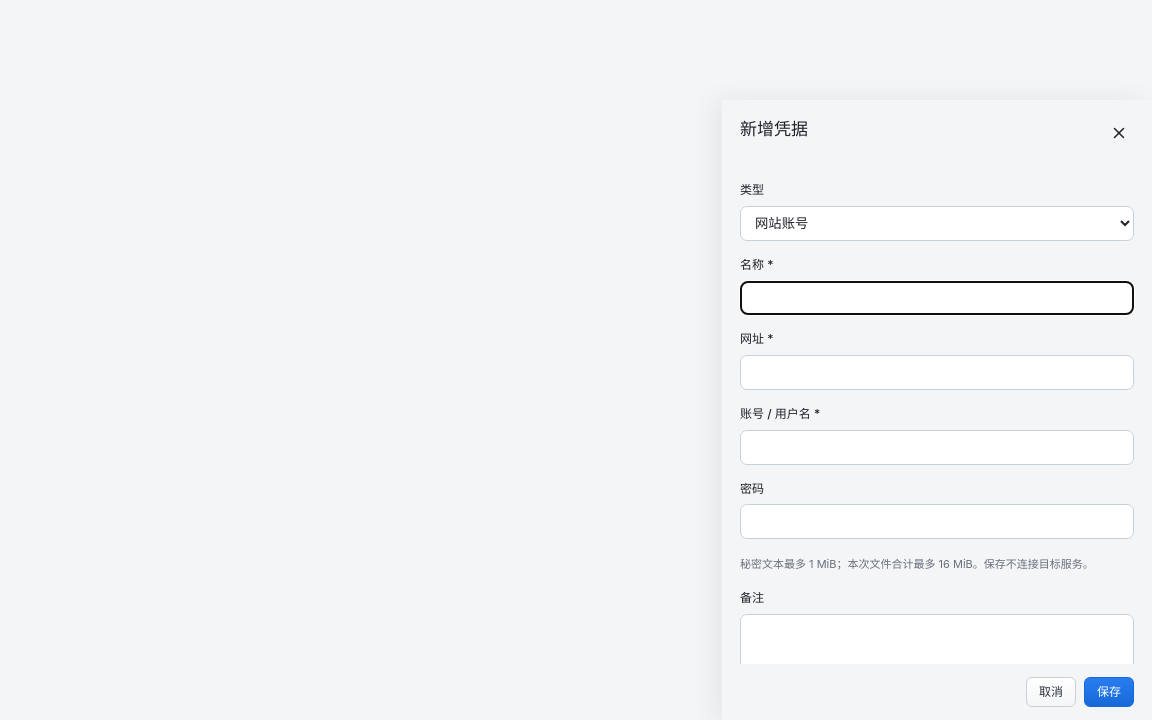
Test: credential editing and validation › blocks incomplete ssh records before requesting a save
Select "SSH 私钥" in the dropdown labelled "类型": (937, 223) [740,206,1134,241]
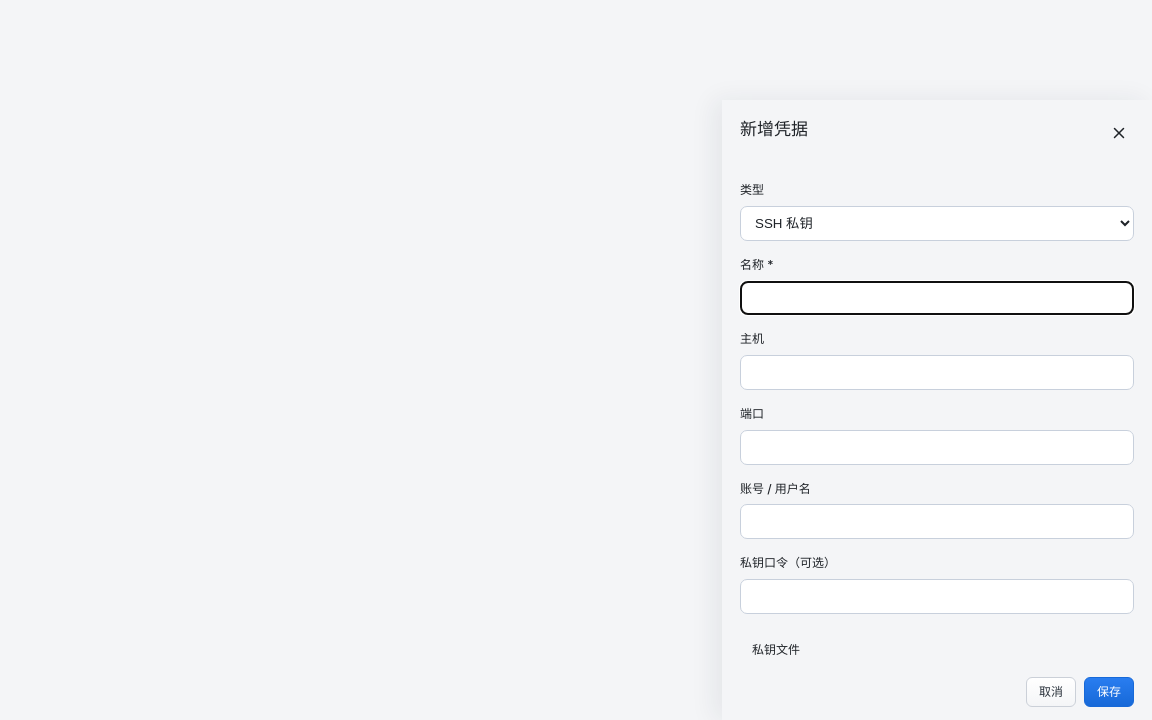
Click the button "保存": (1109, 692) [1084,677,1134,707]
(page scrolled)
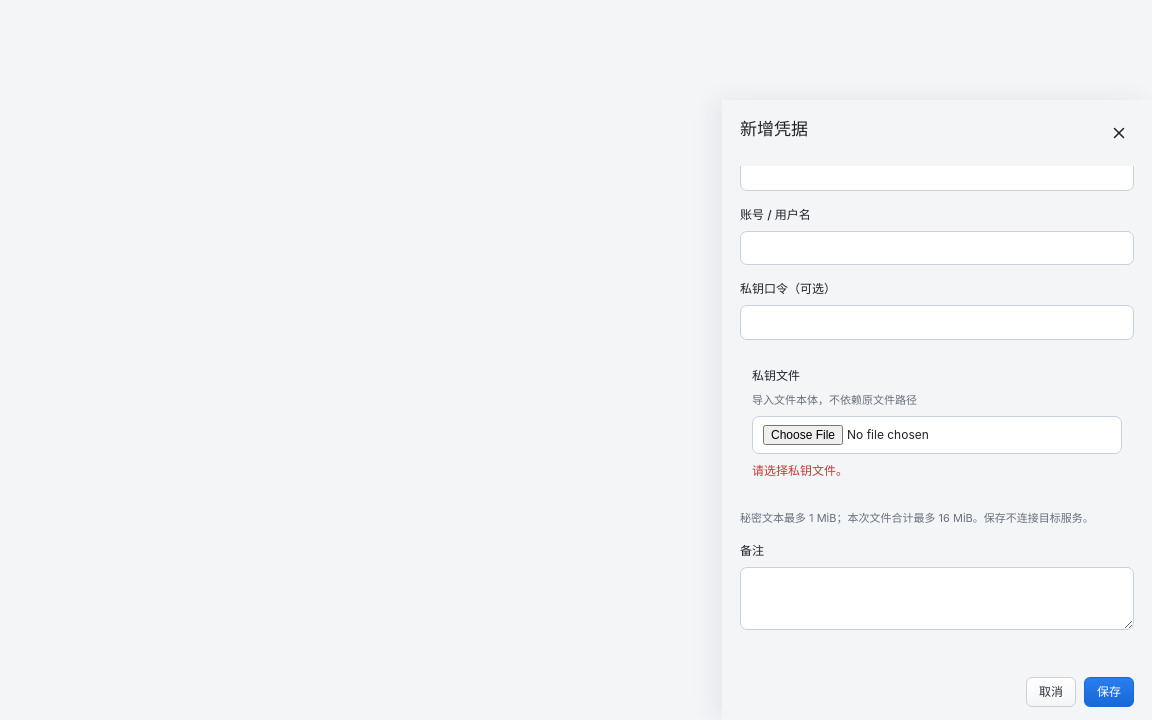
Now the text "请选择私钥文件。" is shown, box [752,463,848,478]
